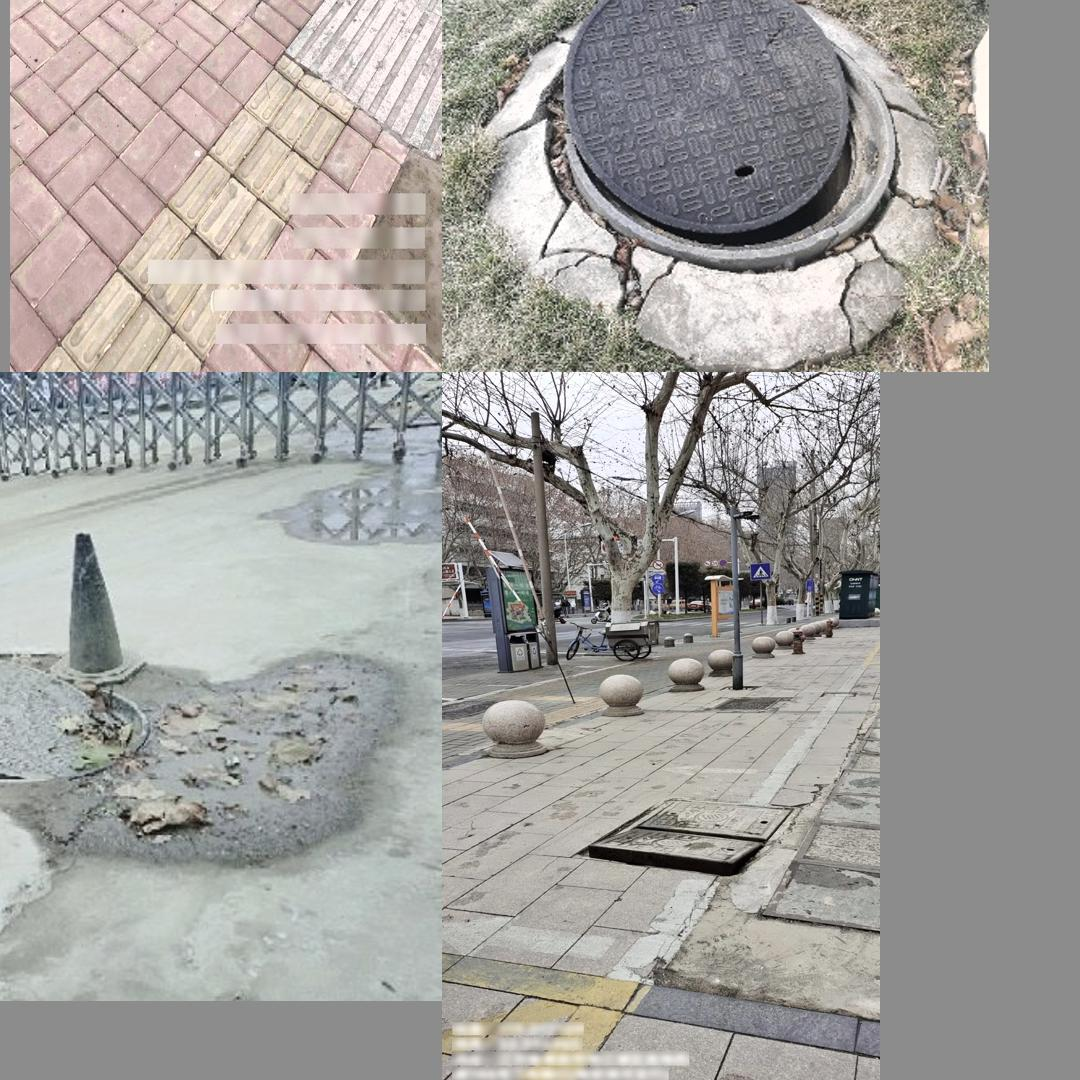uncovered: (561, 0, 898, 266), (576, 768, 770, 884), (0, 657, 150, 777)
